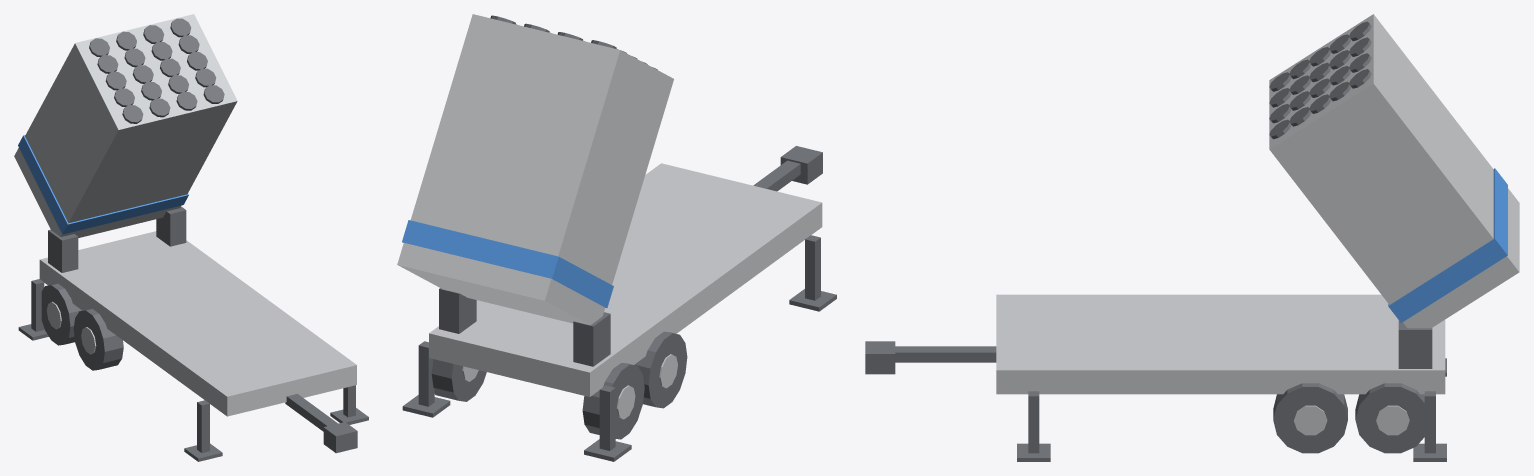
The model's file is Launcher_ShortRange_01.fbx.
3 views of the same model, side by side, from view 1: azimuth 30°, elevation 25°; view 2: azimuth 150°, elevation 25°; view 3: azimuth 270°, elevation 25° (orthographic). The views are drawn at different scales.
Visible parts, largest first — view 1: Launcher_ShortRange_01_Structure, Launcher_ShortRange_01_Pod_Structure, Launcher_ShortRange_01_Trim, Launcher_ShortRange_01_Pod_Trim, Launcher_ShortRange_01_Pod_Accent; view 2: Launcher_ShortRange_01_Pod_Structure, Launcher_ShortRange_01_Structure, Launcher_ShortRange_01_Trim, Launcher_ShortRange_01_Pod_Accent; view 3: Launcher_ShortRange_01_Structure, Launcher_ShortRange_01_Pod_Structure, Launcher_ShortRange_01_Trim, Launcher_ShortRange_01_Pod_Trim, Launcher_ShortRange_01_Pod_Accent.
Part boxes in pixels (x1,y1,x2,y2): Launcher_ShortRange_01_Structure: (39,231,356,416); Launcher_ShortRange_01_Pod_Structure: (14,14,237,237); Launcher_ShortRange_01_Trim: (18,206,368,461); Launcher_ShortRange_01_Pod_Trim: (89,18,224,123); Launcher_ShortRange_01_Pod_Accent: (18,135,188,234); Launcher_ShortRange_01_Pod_Structure: (397,14,673,325); Launcher_ShortRange_01_Structure: (429,163,822,419); Launcher_ShortRange_01_Trim: (402,146,836,461); Launcher_ShortRange_01_Pod_Accent: (402,220,613,307); Launcher_ShortRange_01_Structure: (996,294,1445,435); Launcher_ShortRange_01_Pod_Structure: (1269,14,1519,328); Launcher_ShortRange_01_Trim: (865,320,1446,461); Launcher_ShortRange_01_Pod_Trim: (1269,21,1371,139); Launcher_ShortRange_01_Pod_Accent: (1388,168,1507,322).
Size of the model in its own units: 3.15 by 5.38 by 8.74.
